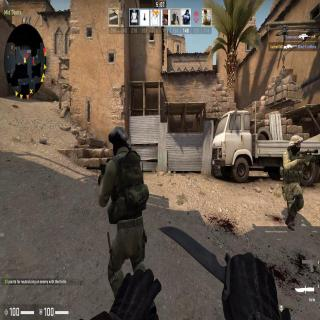CT-Body: (93, 122, 156, 281), (278, 132, 308, 226)
CT-Head: (108, 126, 128, 154), (287, 134, 302, 154)
